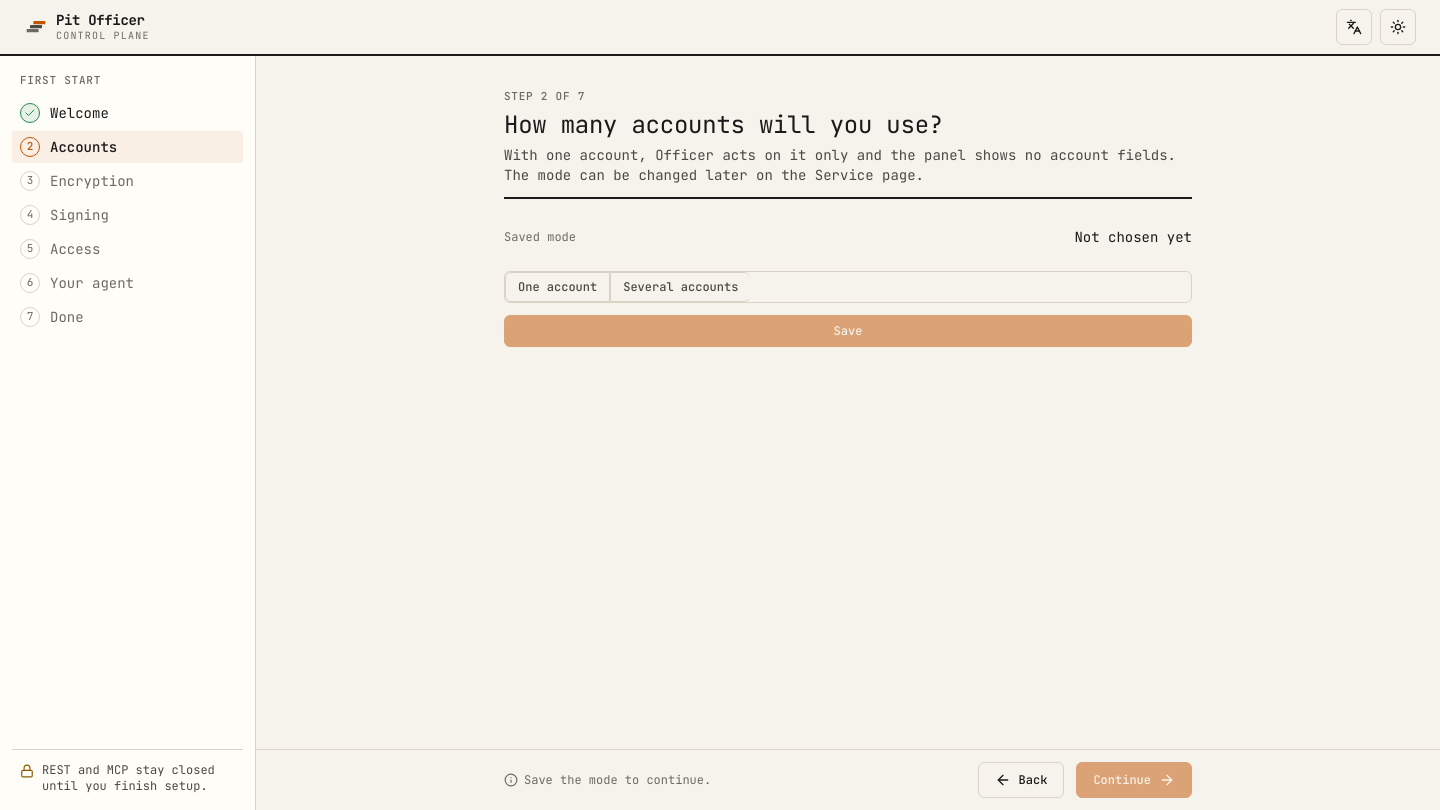
it: Setup › accounts › does not restart when storing the encryption step fails
This screenshot has width=1440, height=810.
Click the button "One account" at coordinates (558, 286), box 505,272 -> 610,302
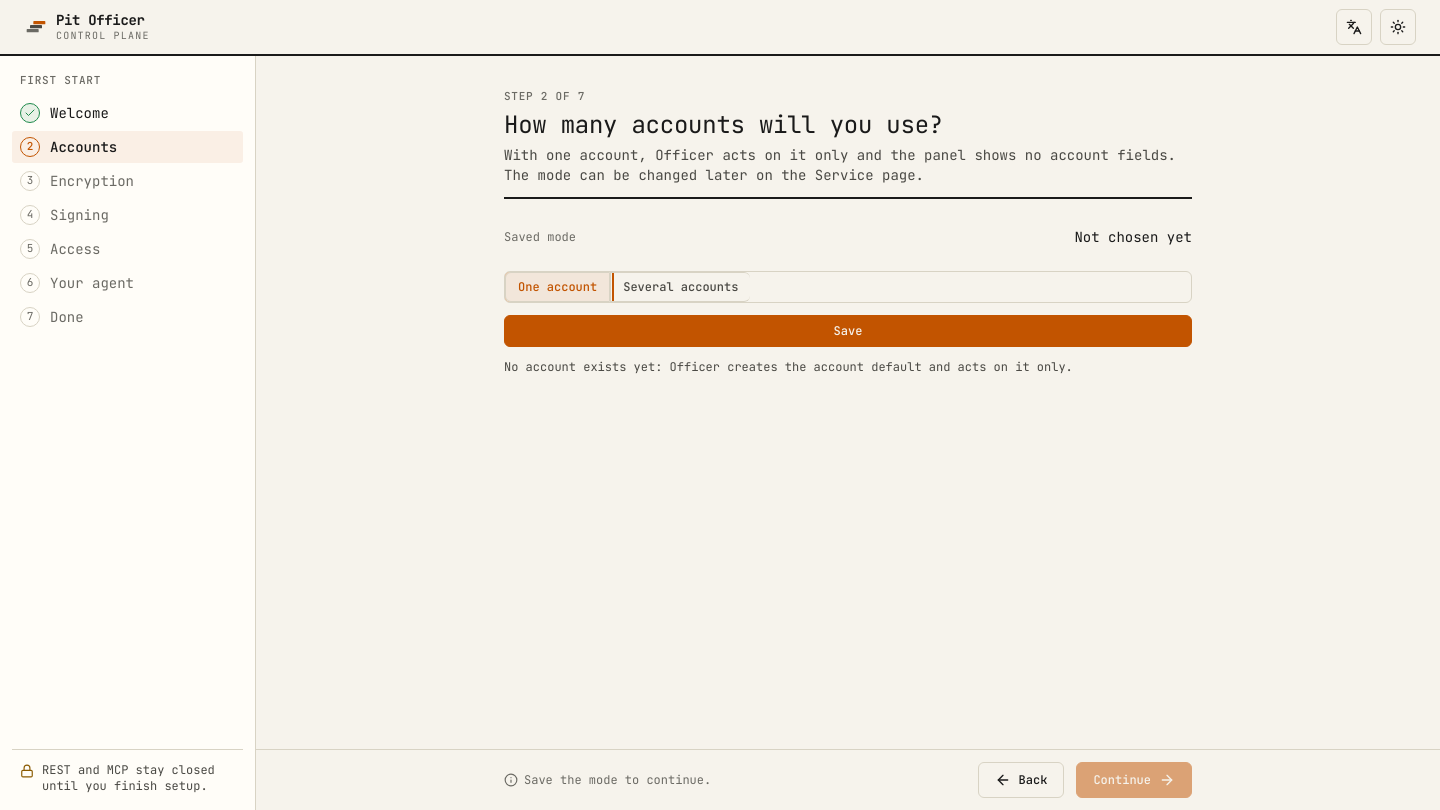
Now the text "No account exists yet: Officer creates the account default and acts on it only." is shown, box 504,358 -> 1073,374
Click the button "Save" at coordinates (848, 330), box 504,314 -> 1192,346
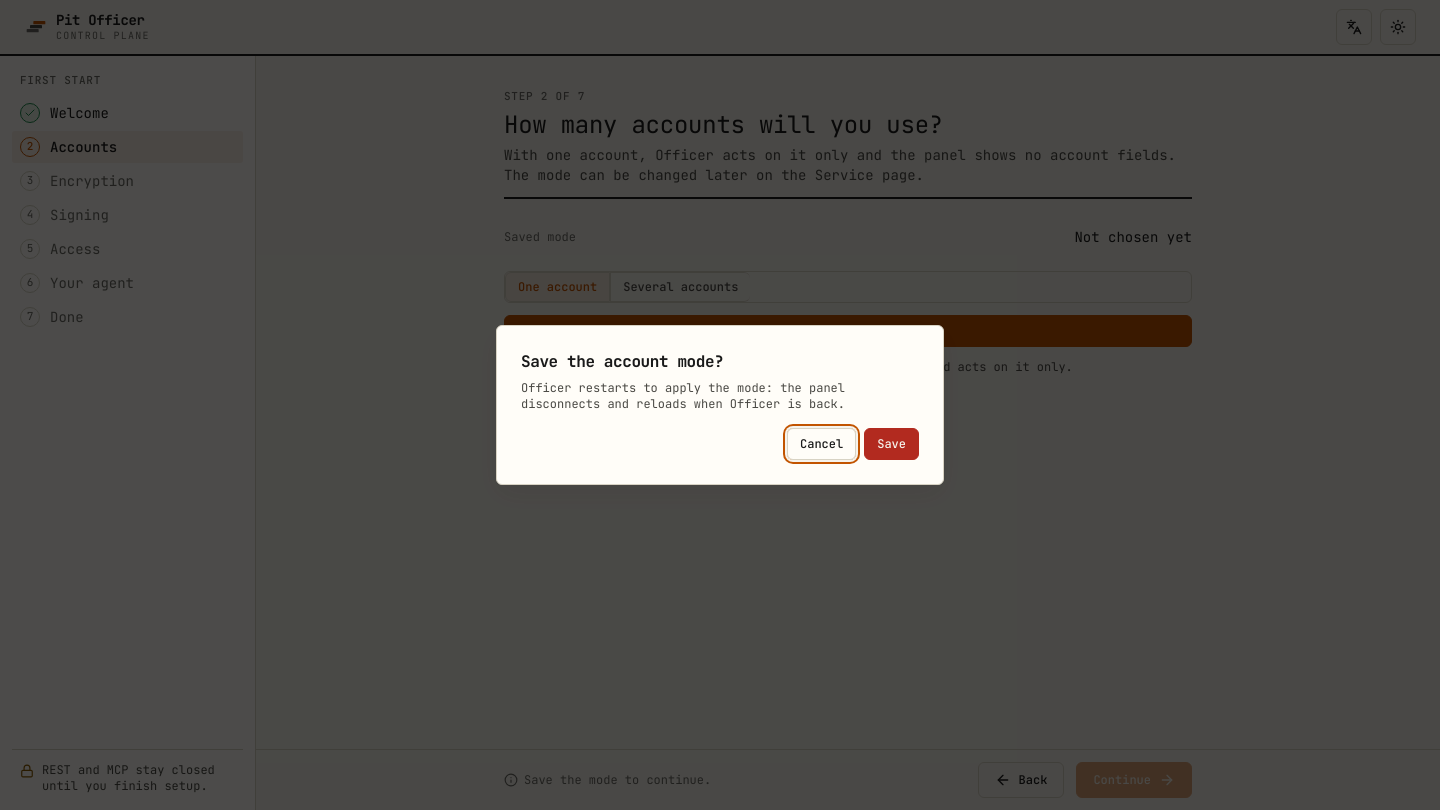
Click the button "Save" at coordinates (892, 444), box 864,428 -> 919,460
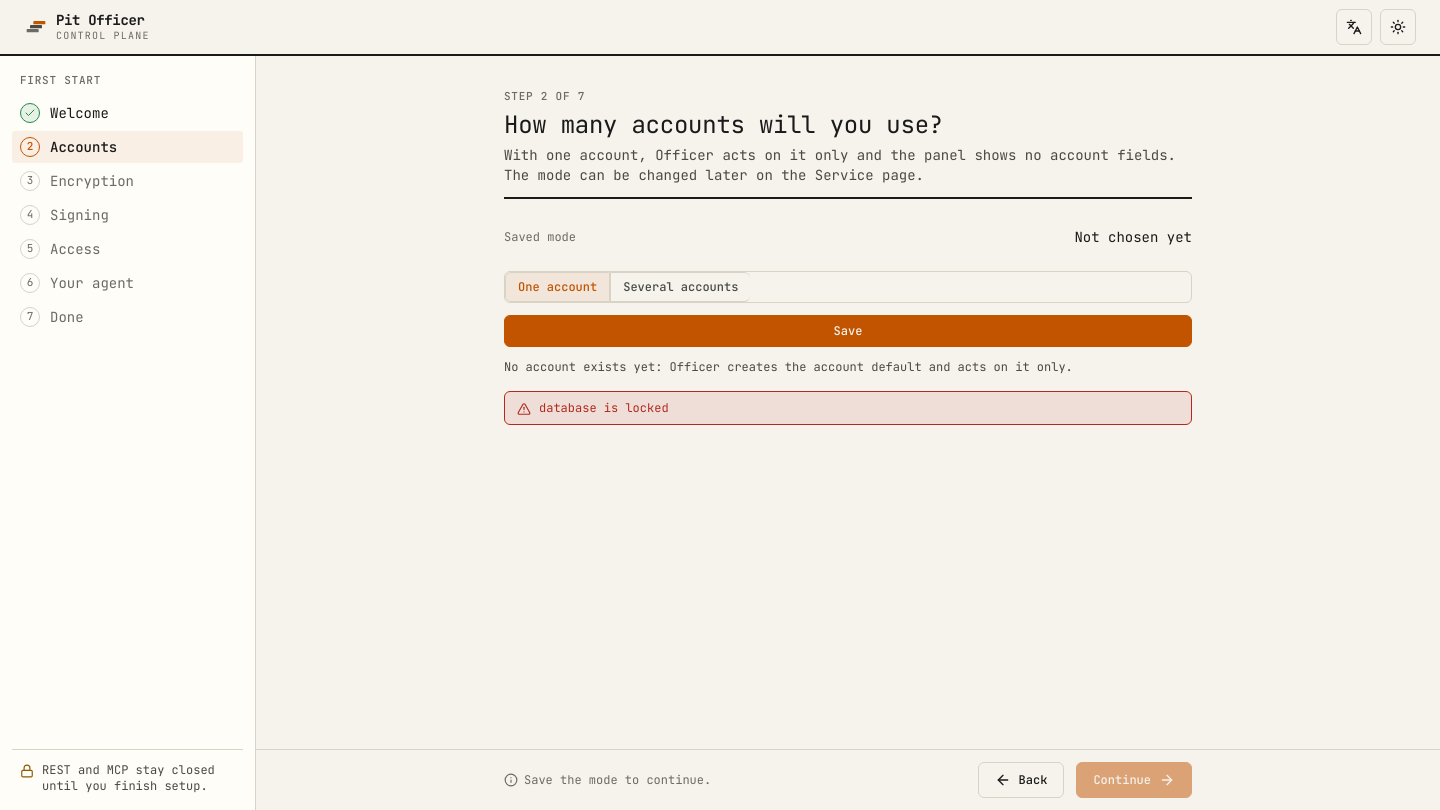
Now the message reads "database is locked", box 539,400 -> 669,416
